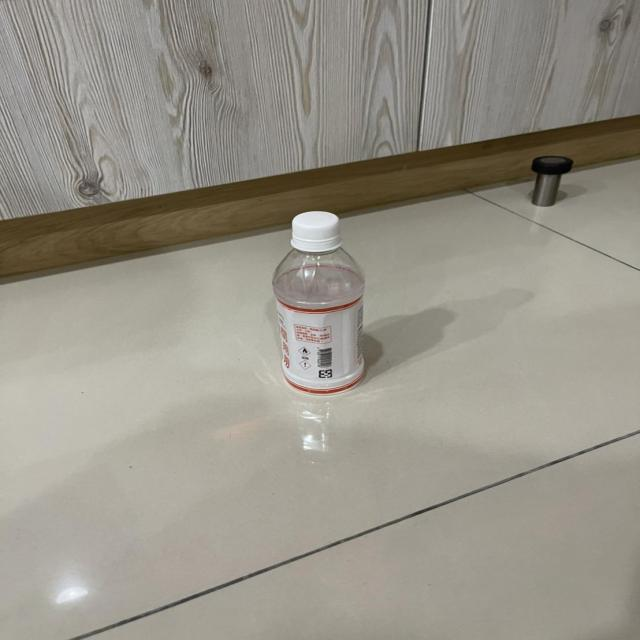bottle: (271, 208, 367, 395)
